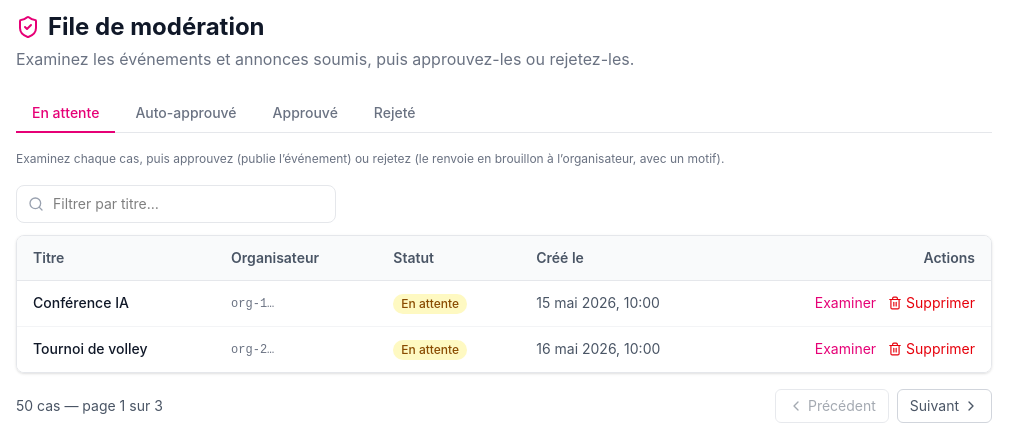
Test: AdminModerationPage › disables Précédent on page 0 and enables it on page 1
This screenshot has width=1009, height=440.
expect the link "Conférence IA" is shown: met, box x1=33 y1=294 x2=129 y2=311
expect the button "Précédent" is disabled: met, box x1=775 y1=388 x2=889 y2=422
What coordinates should you click on to do the following:
click the button "Suivant"
I would click on:
 (944, 406)
Its box is x1=897 y1=388 x2=992 y2=422.
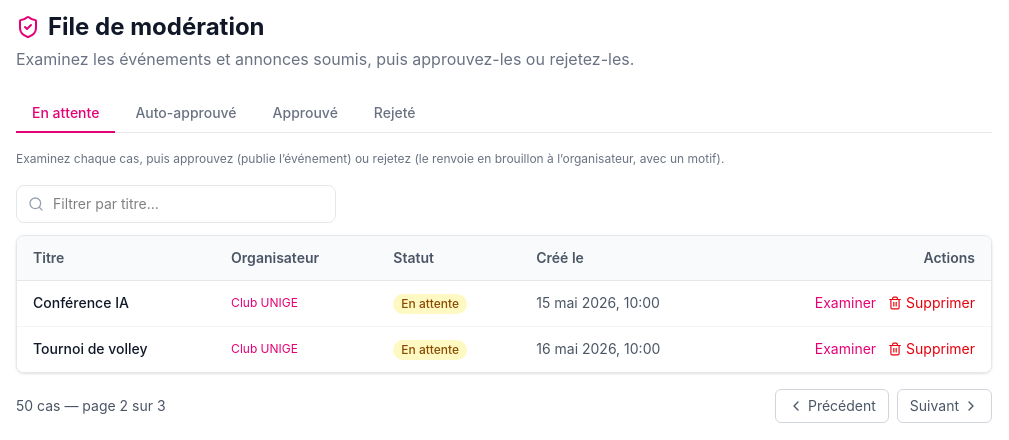
expect the link "Conférence IA" is shown: met, box x1=33 y1=294 x2=129 y2=311
expect the button "Précédent" is enabled: met, box x1=775 y1=388 x2=889 y2=422
